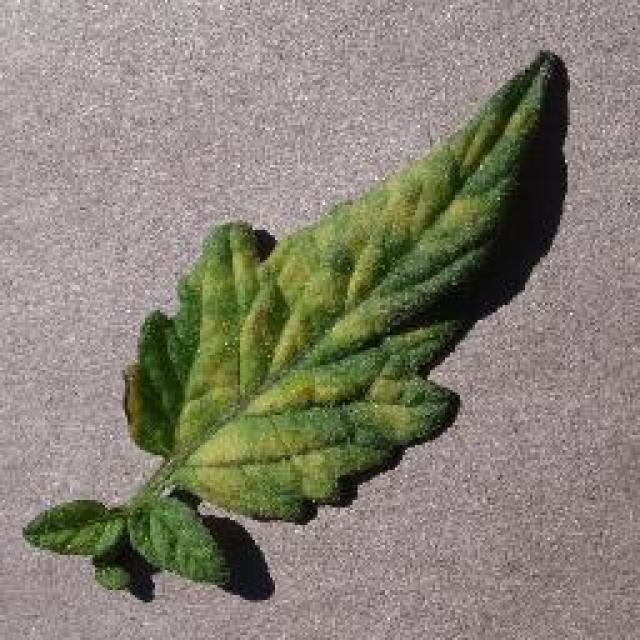Tomato mold leaf: (33, 54, 555, 594)
